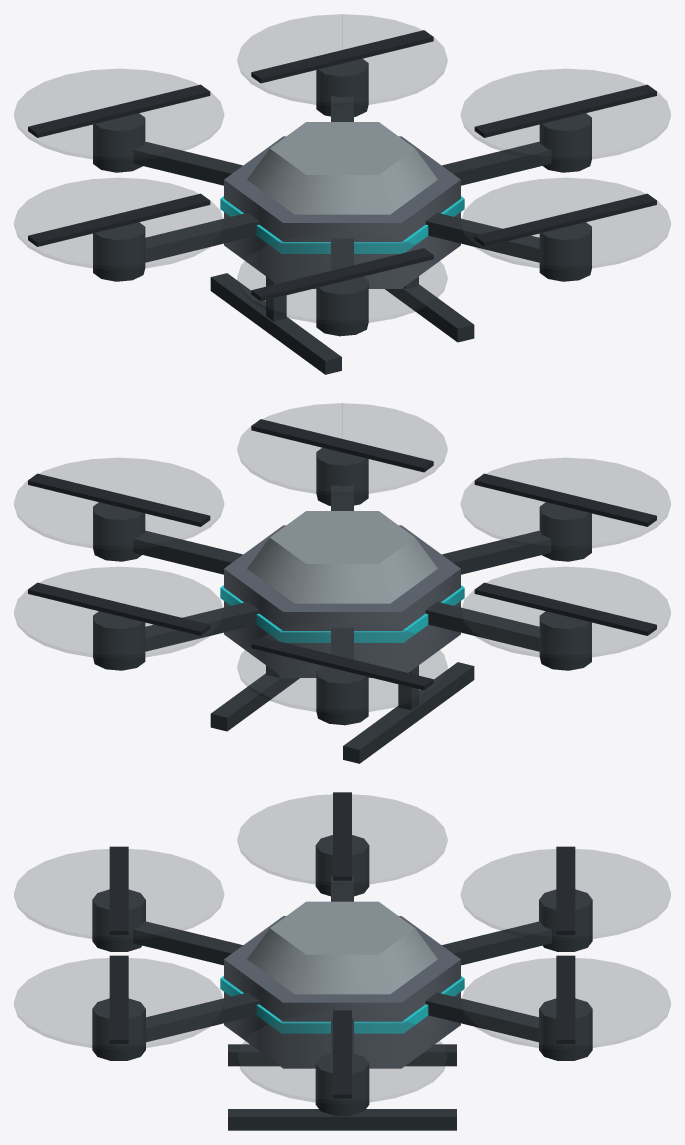
File: drone_hexa.glb
3 views of the same model, one above another, from view 1: azimuth 30°, elevation 25°; view 2: azimuth 150°, elevation 25°; view 3: azimuth 270°, elevation 25° (orthographic).
Parts seen in each view (by area): view 1: Canopy, Disc2, Disc4, Disc1, Disc3, Disc5, Disc6, Hull, Skid1, Arm5, Motor1, Motor6 (+18 smaller); view 2: Canopy, Disc2, Disc6, Disc1, Disc3, Disc5, Disc4, Hull, Skid1, Arm5, Motor3, Motor4 (+18 smaller); view 3: Hull, Disc2, Disc5, Disc1, Disc3, Disc4, Disc6, Canopy, Skid3, Arm1, Arm3, Band (+16 smaller).
Part boxes in pixels (x1,y1,x2,y2): Canopy: (247,122,437,214); Disc2: (461,69,670,160); Disc4: (14,69,223,160); Disc1: (461,178,670,269); Disc3: (237,14,447,105); Disc5: (14,178,223,269); Disc6: (237,232,447,323); Hull: (224,136,460,288); Skid1: (210,273,341,374); Arm5: (145,213,259,262); Motor1: (539,222,591,281); Motor6: (316,277,368,336); Canopy: (247,511,437,603); Disc2: (14,458,223,549); Disc6: (461,458,670,549); Disc1: (237,403,447,494); Disc3: (14,567,223,658); Disc5: (461,567,670,658); Disc4: (237,621,447,712); Hull: (224,525,460,677); Skid1: (343,662,474,763); Arm5: (425,602,539,651); Motor3: (93,611,145,670); Motor4: (316,666,368,725); Hull: (224,916,460,1068); Disc2: (237,1012,447,1103); Disc5: (237,794,447,885); Disc1: (14,958,223,1049); Disc3: (461,958,670,1049); Disc4: (461,849,670,940); Disc6: (14,849,223,940); Canopy: (247,901,437,994); Skid3: (228,1109,456,1130); Arm1: (146,992,259,1042); Arm3: (425,992,538,1042); Band: (220,976,464,1033).
Bounding box in the file's own units: 3.8 × 0.96 × 3.44.
